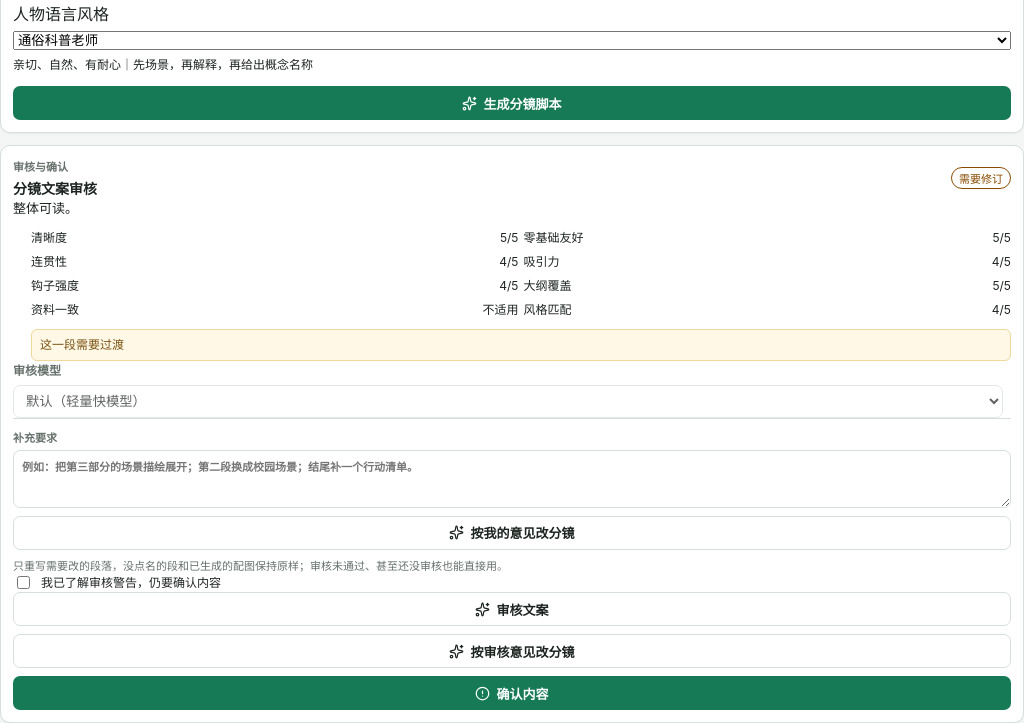
ContentWorkspace › storyboard revision › applies review feedback through the converged entry and reports what was replaced
The image size is (1024, 723).
(page scrolled)
Click the button "按审核意见改分镜": point(512, 651) [13,634,1011,668]
(page scrolled)
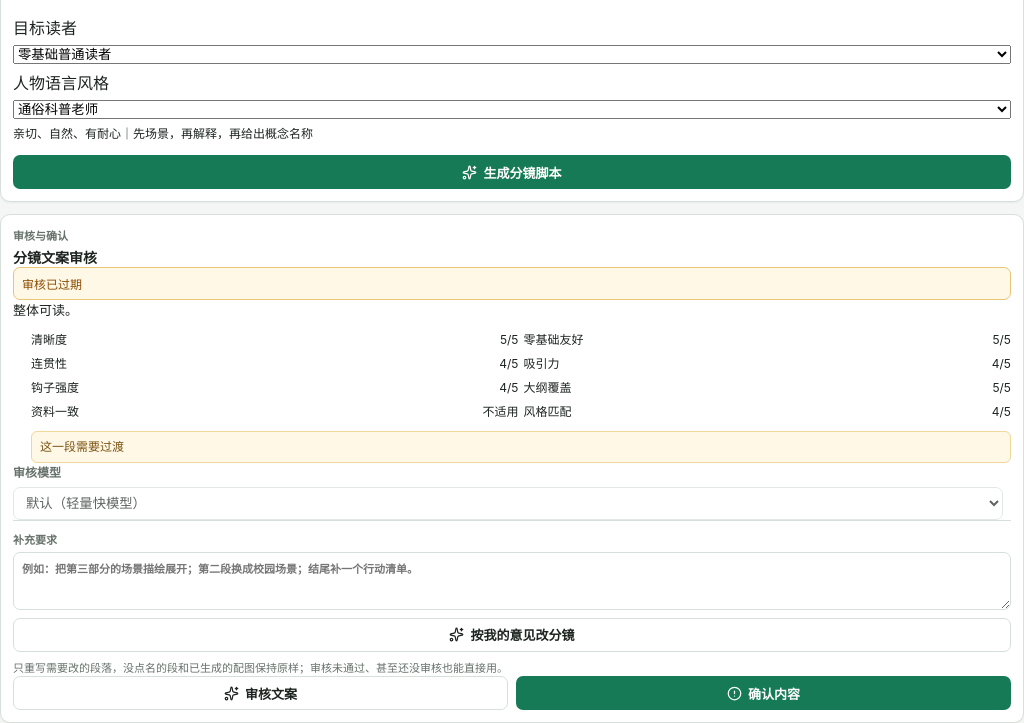
Expected: the button "确认内容" is disabled, [516,676,1011,710]
Now the text "审核已过期" is shown, box [13,267,1011,300]
